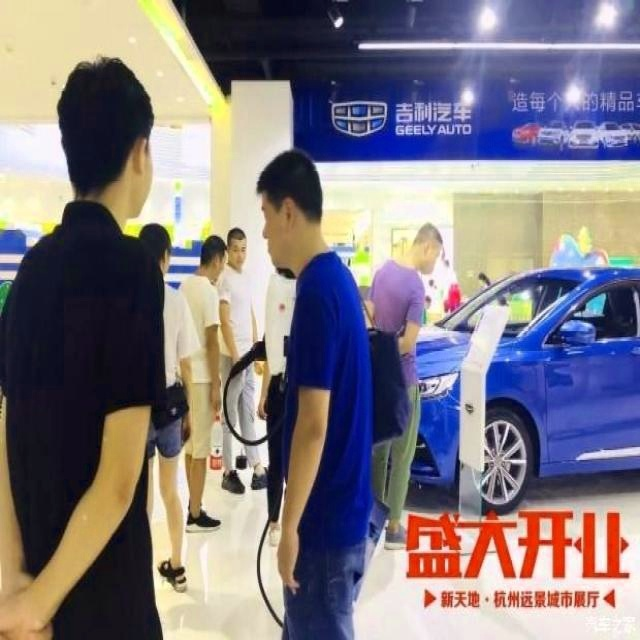Sin_Casco_Mascarrilla: (57, 55, 158, 218), (258, 146, 324, 269)
